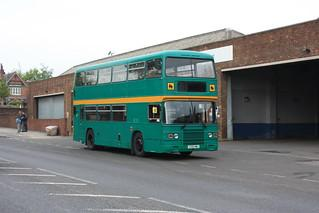bus: (70, 48, 223, 158)
